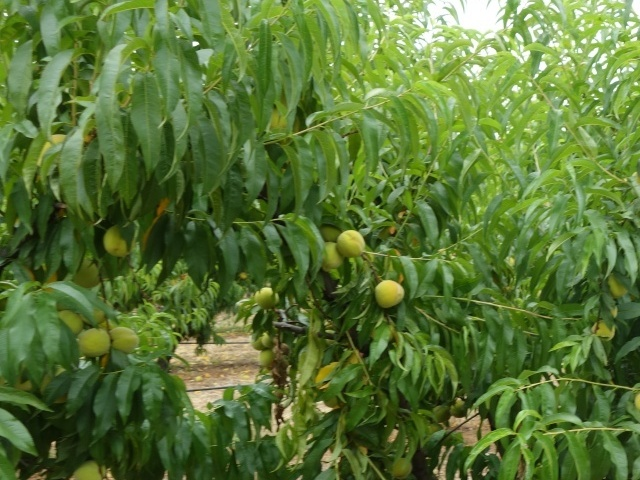peach: (99, 220, 140, 260), (74, 324, 113, 360), (51, 305, 89, 341), (369, 276, 407, 310), (103, 324, 142, 357), (67, 256, 103, 291), (72, 297, 114, 327), (334, 228, 370, 262), (600, 269, 634, 302), (317, 237, 347, 274), (587, 315, 619, 346), (315, 218, 349, 246), (252, 285, 283, 312), (446, 396, 469, 419), (429, 401, 452, 423), (257, 331, 278, 351), (255, 347, 275, 367)
